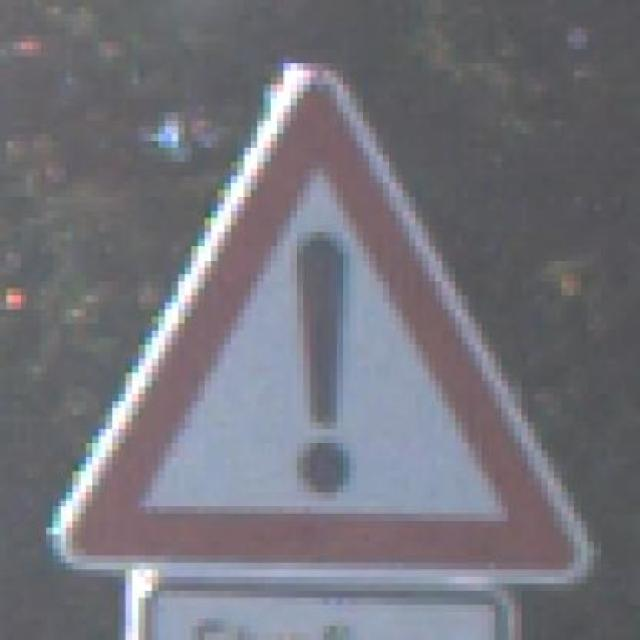Attention Please-: (39, 42, 607, 598)
